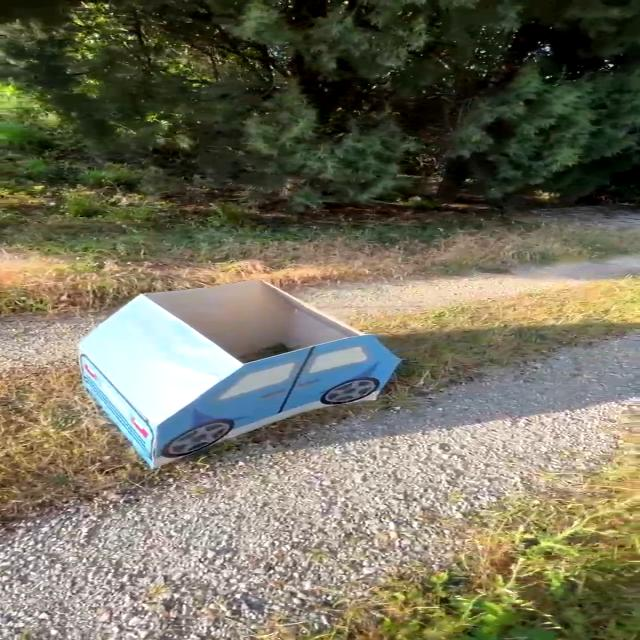blue_car: (26, 247, 459, 485)
